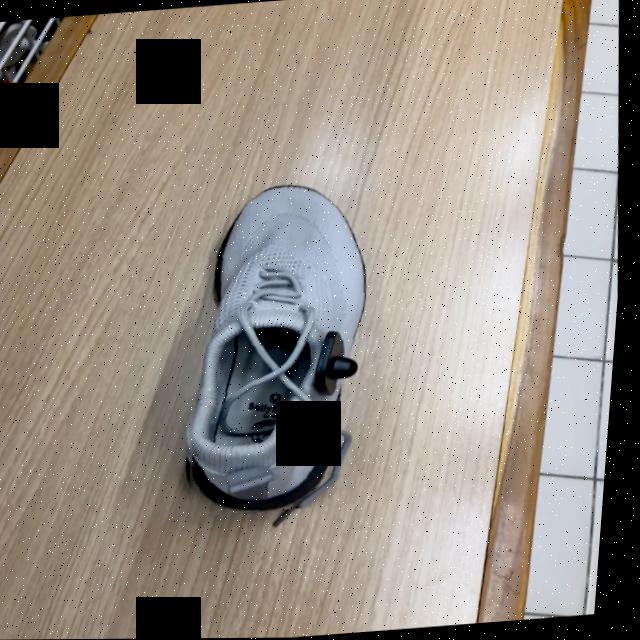shoe: (196, 186, 370, 513)
